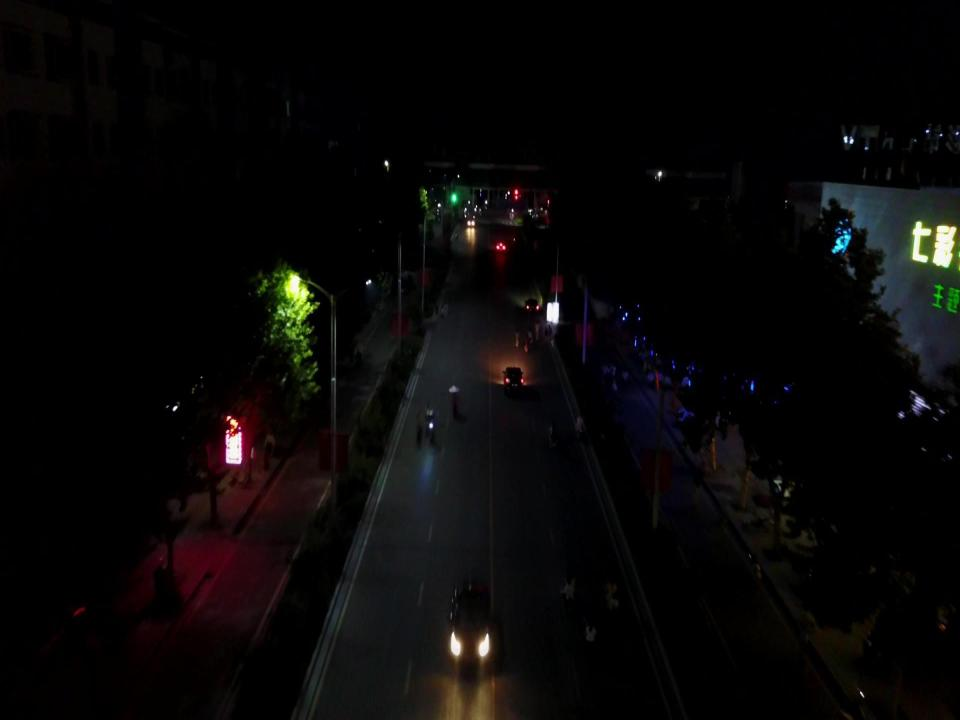car: (448, 574, 493, 663), (502, 365, 524, 394), (524, 298, 541, 315), (494, 234, 508, 252)
